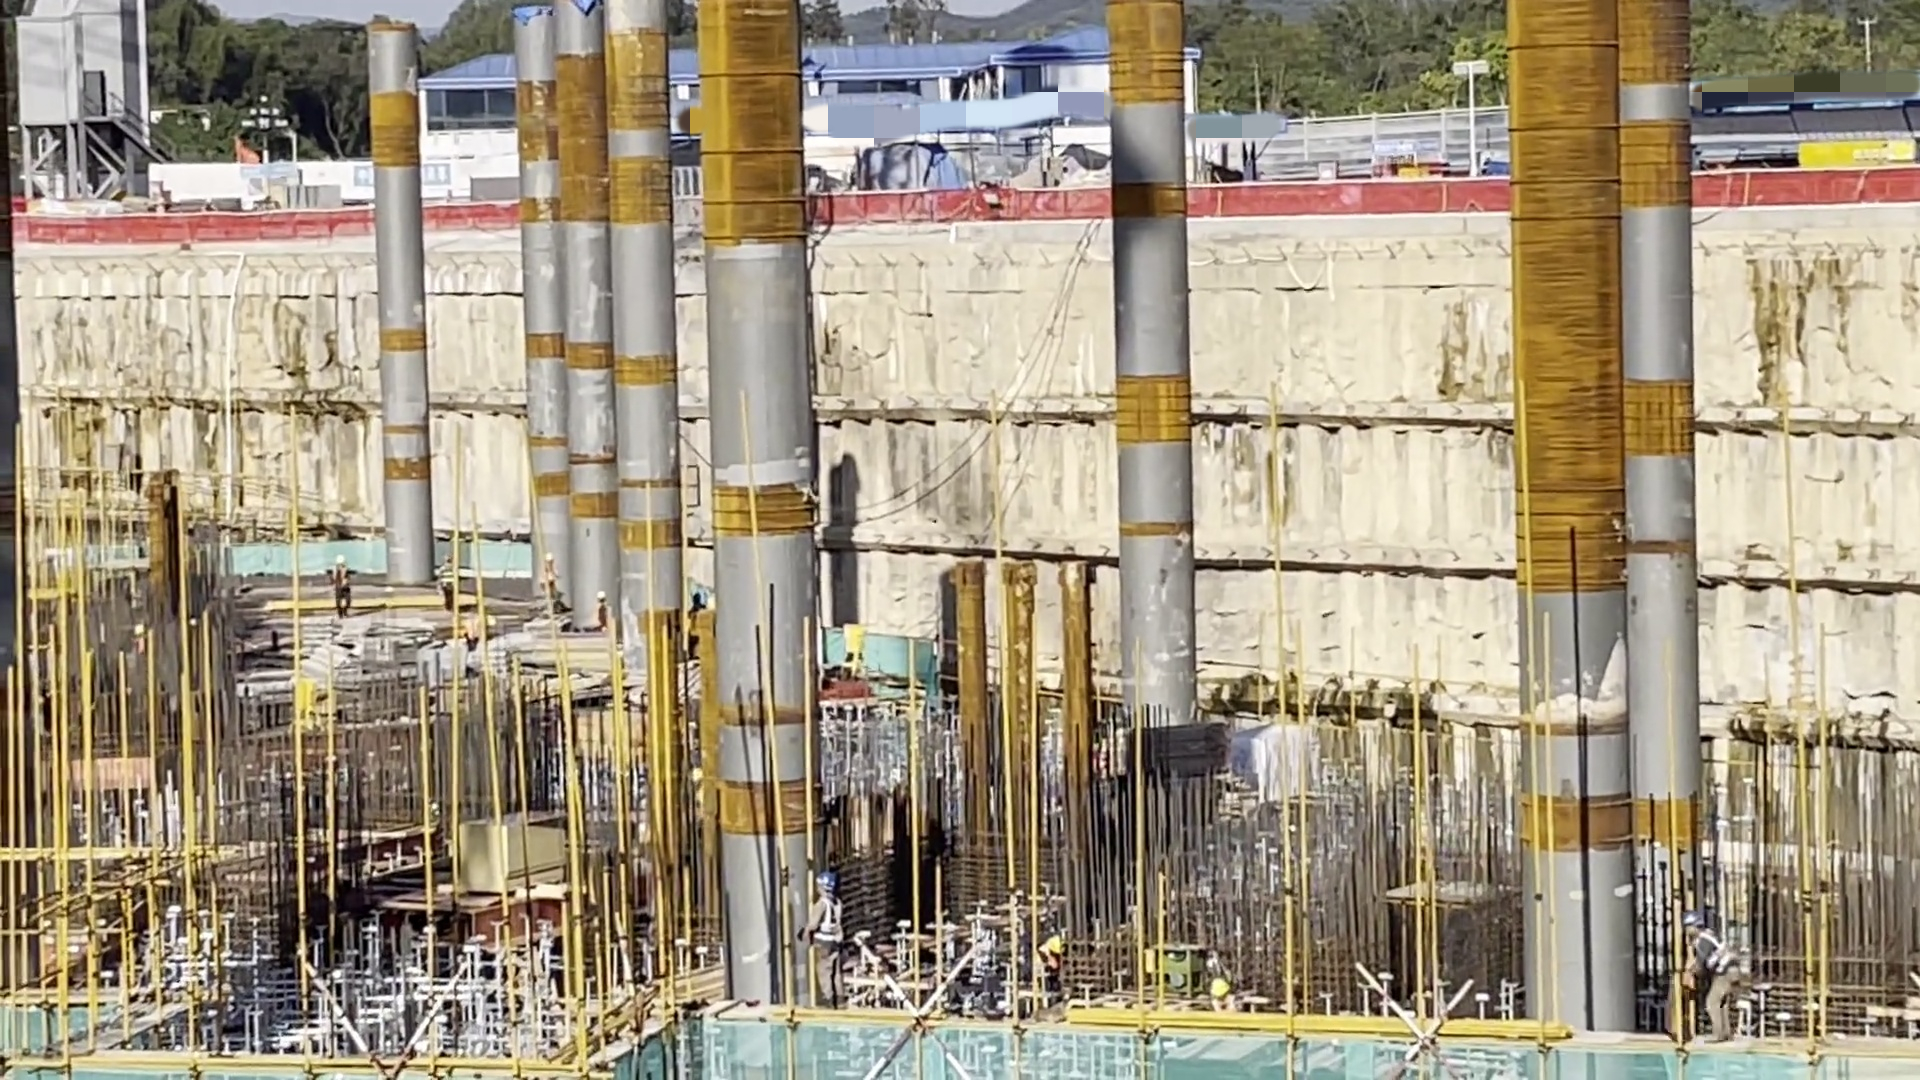helmet: (814, 867, 839, 886), (1206, 982, 1231, 994), (1683, 911, 1701, 924), (1049, 939, 1062, 955), (441, 554, 457, 564), (546, 548, 555, 562), (335, 556, 347, 565), (600, 592, 608, 601)
person: (1678, 904, 1742, 1044), (795, 865, 850, 1011), (1193, 954, 1245, 1015), (1021, 926, 1063, 996), (326, 554, 355, 615), (435, 549, 461, 603), (537, 554, 559, 602), (594, 588, 611, 635)
vest: (1696, 934, 1743, 987), (817, 896, 845, 950), (1204, 994, 1242, 1015), (1033, 950, 1059, 974), (333, 569, 352, 600), (439, 562, 452, 589), (538, 566, 554, 586), (597, 605, 607, 623)
